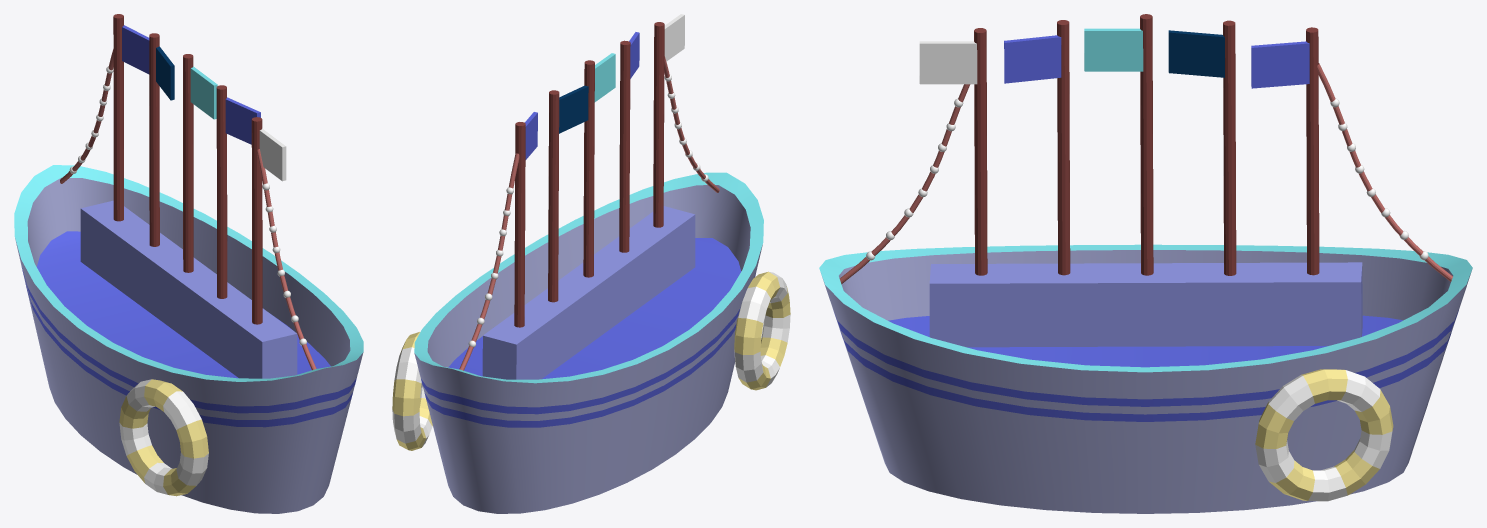
Rendered from boat_1.fbx.
3 views of the same model, side by side, from view 1: azimuth 30°, elevation 25°; view 2: azimuth 150°, elevation 25°; view 3: azimuth 270°, elevation 25° (orthographic). The views are drawn at different scales.
Parts seen in each view (by area): view 1: boat_1; view 2: boat_1; view 3: boat_1.
Boxes of the visible parts, x1,y1,x2,y2 form: boat_1: [14, 14, 363, 513]; boat_1: [392, 14, 790, 513]; boat_1: [819, 14, 1472, 513].
Size of the model in its own units: 367 by 539 by 715.
